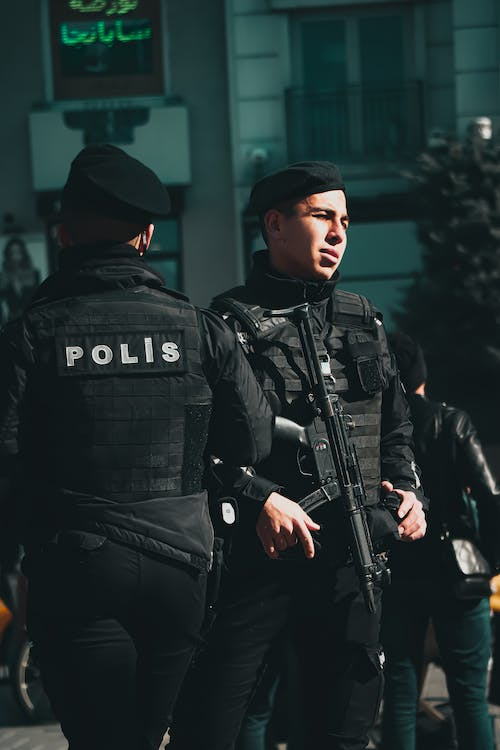gun: (263, 297, 391, 616)
